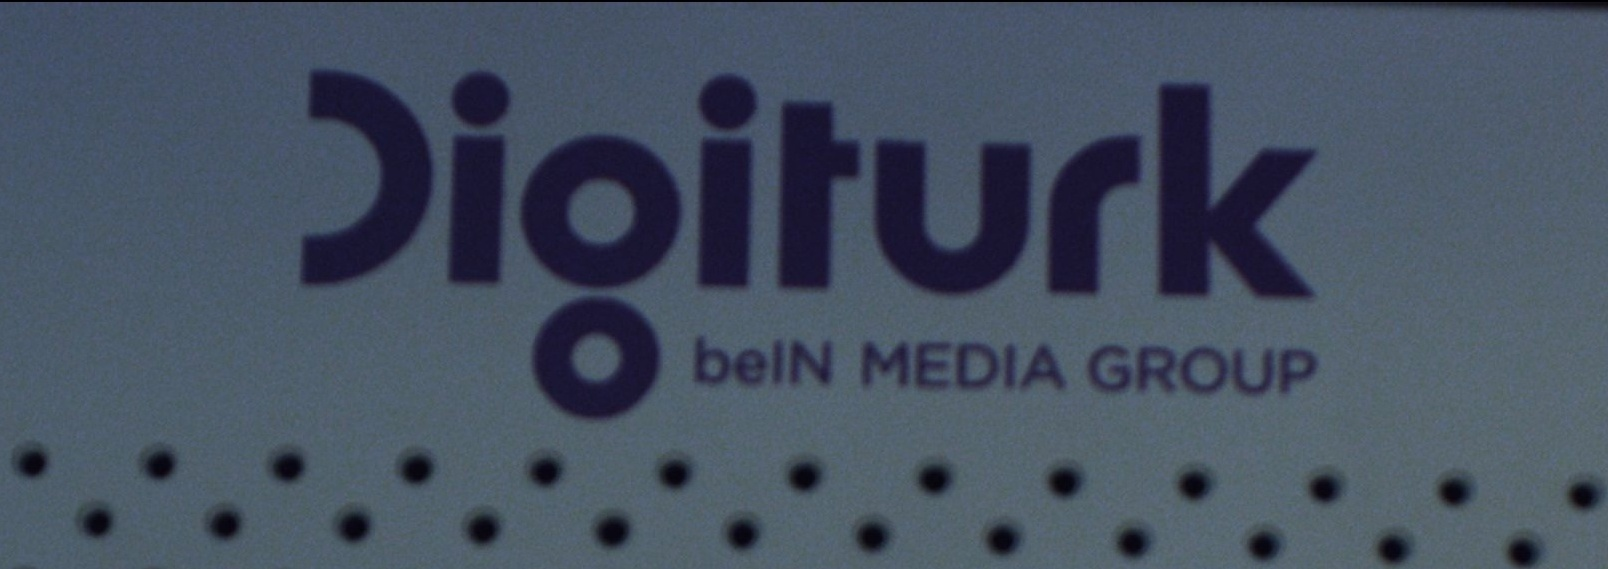BW_H168ADigiturk: (284, 35, 1367, 442)
